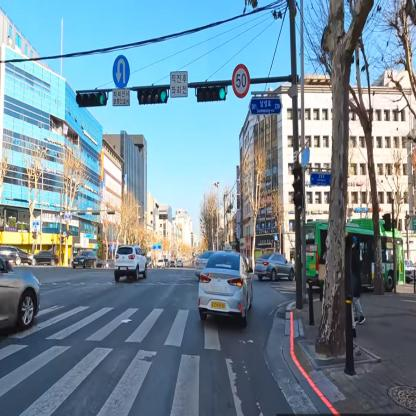Green: (74, 93, 109, 108), (196, 88, 227, 102), (138, 88, 167, 102)
